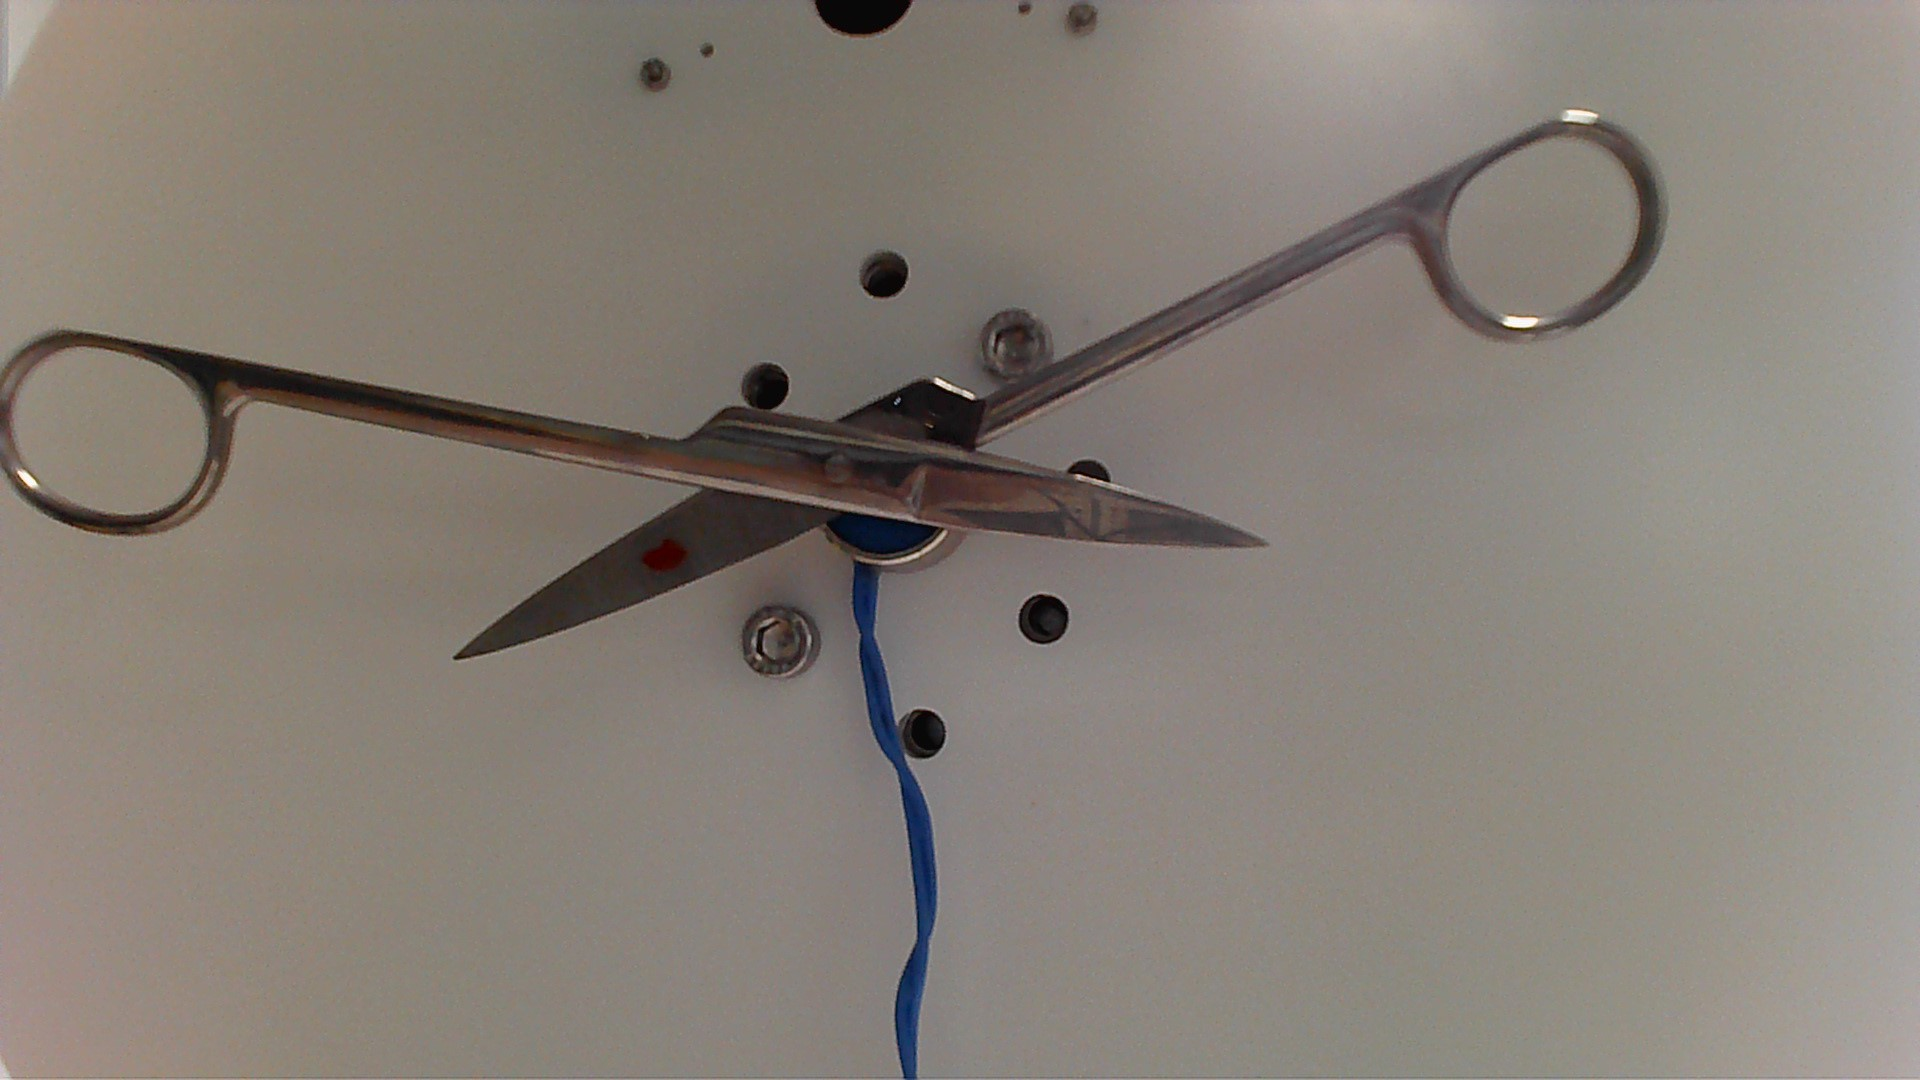Stain: (638, 531, 695, 584)
